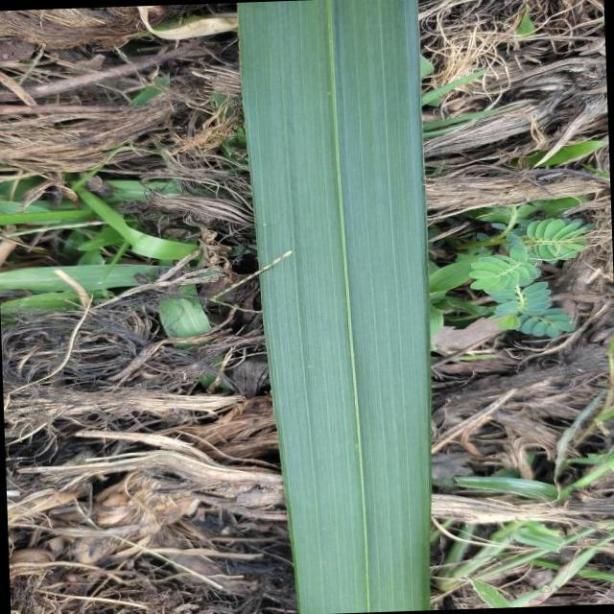Healthy: (237, 0, 427, 614)
